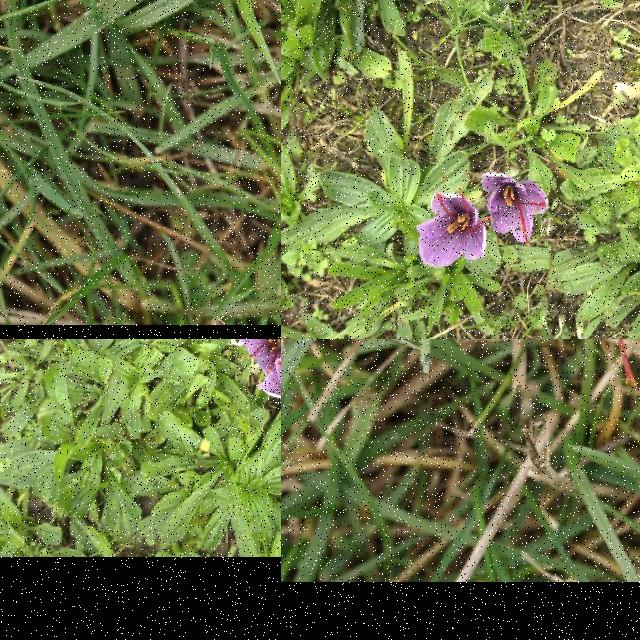flower: (416, 188, 489, 268), (482, 174, 550, 246), (237, 339, 281, 375), (259, 340, 281, 402)
